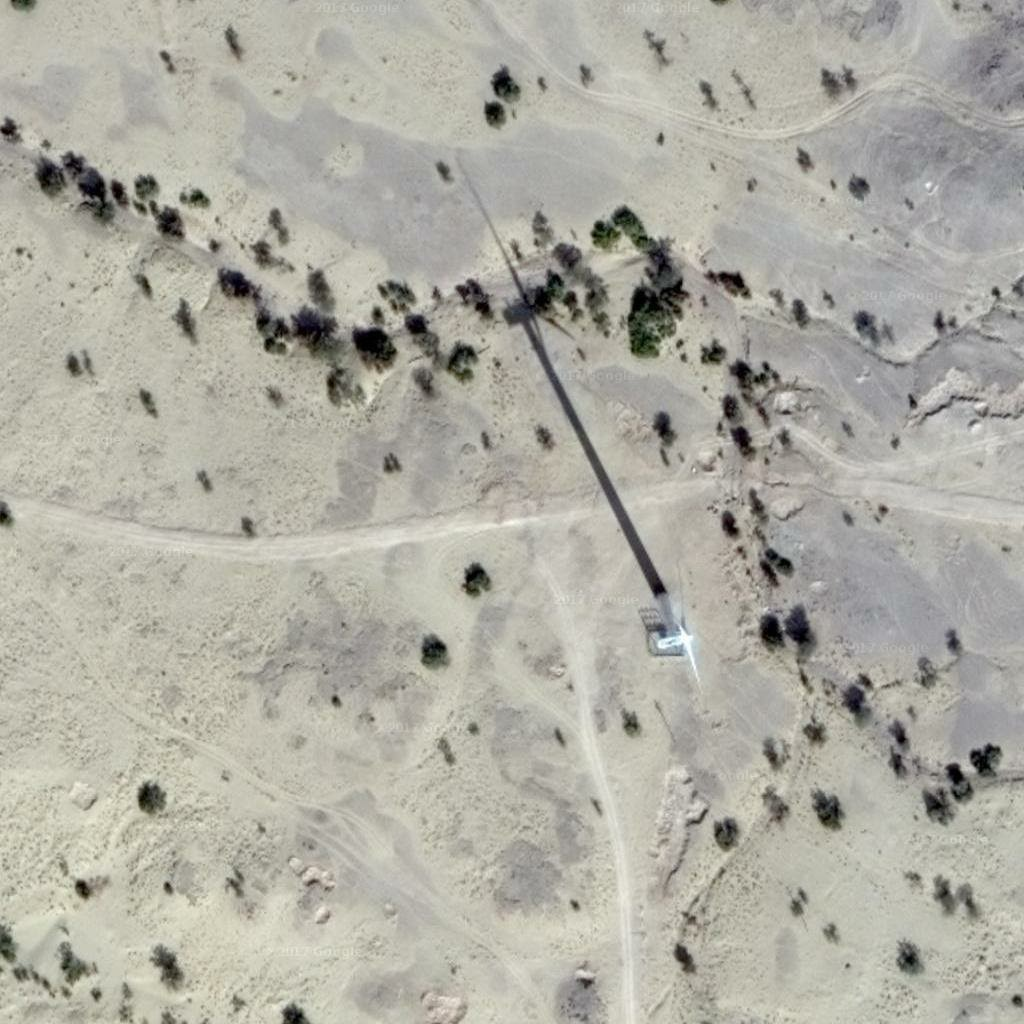Windmill: (458, 175, 677, 589)
